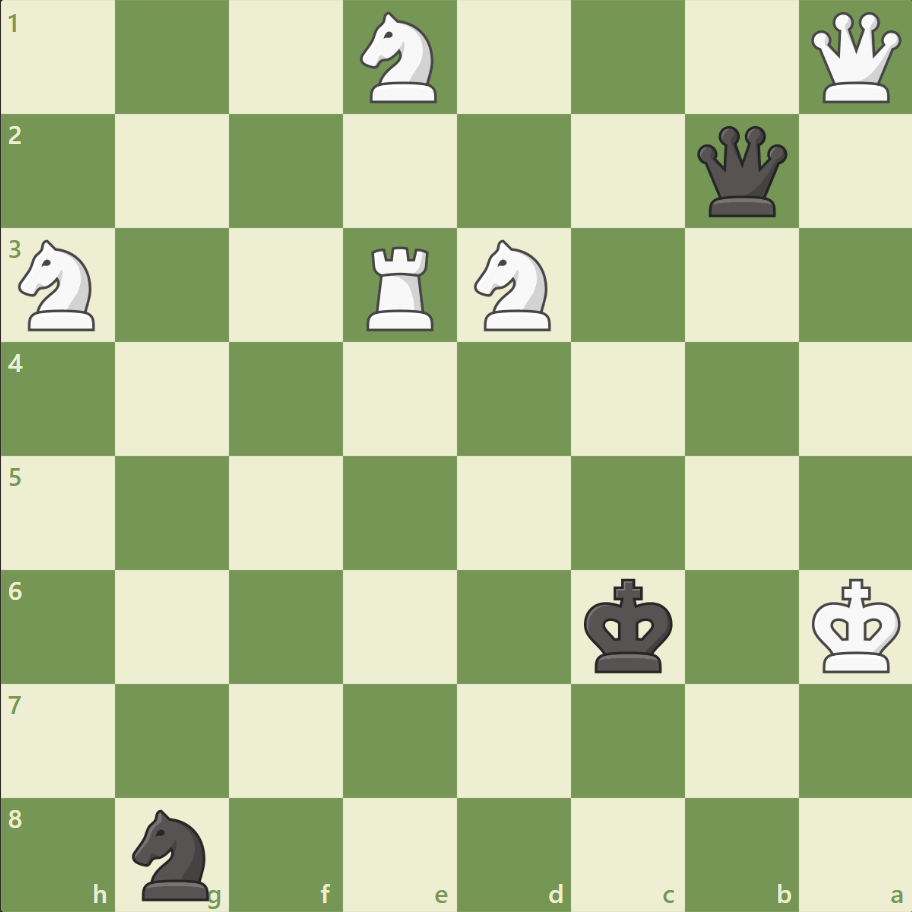K: (806, 571, 906, 679)
N: (351, 7, 449, 110), (465, 234, 562, 337), (11, 234, 108, 337)
Q: (805, 9, 904, 108)
R: (360, 239, 442, 336)
k: (579, 571, 679, 679)
n: (124, 802, 222, 904)
q: (691, 122, 790, 222)
